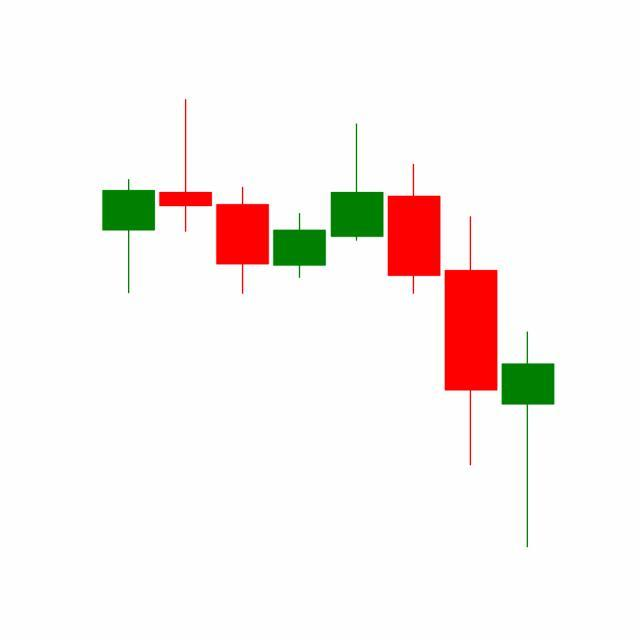Hikkake Pattern: (214, 120, 501, 470)
